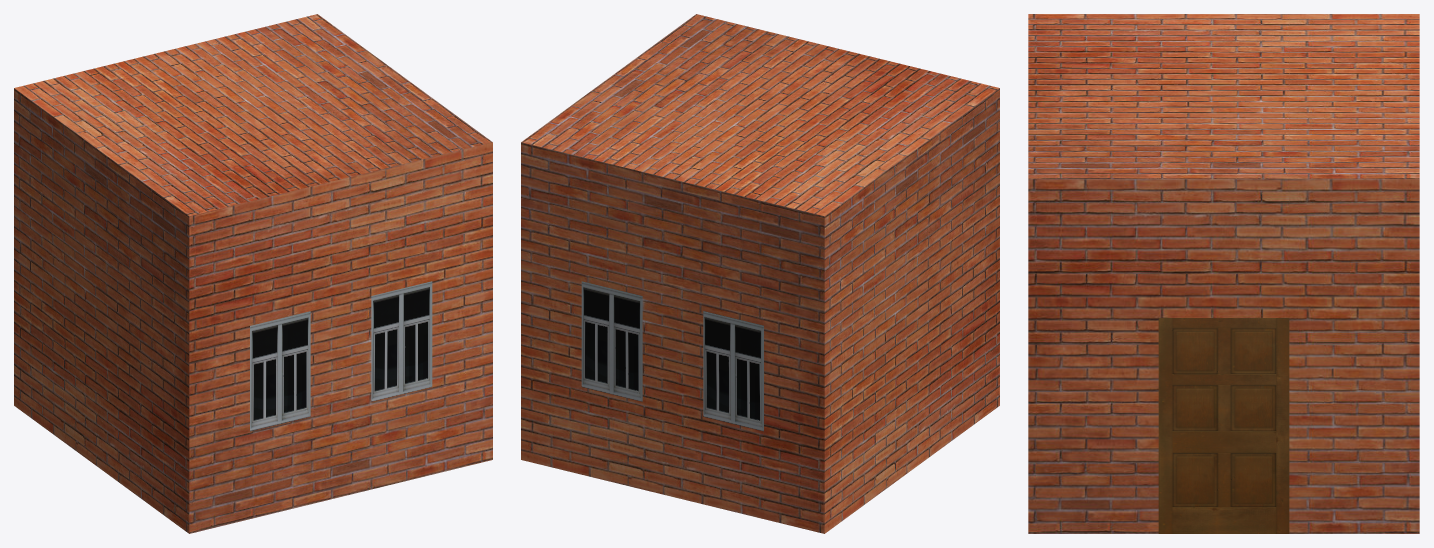
File: house_body.obj
The picture shows the model from 3 angles, left to right: view 1: azimuth 30°, elevation 25°; view 2: azimuth 150°, elevation 25°; view 3: azimuth 270°, elevation 25°; orthographic projection. The views are drawn at different scales.
Visible parts, largest first — view 1: Cube; view 2: Cube; view 3: Cube.
Boxes of the visible parts, box(x1,y1,x2,y2) form: Cube: box(14, 14, 492, 533); Cube: box(521, 14, 999, 533); Cube: box(1028, 14, 1419, 533).
Bounding box in the file's own units: 5.77 × 5.77 × 5.77.
Materials: 3 (3 with a texture image).
